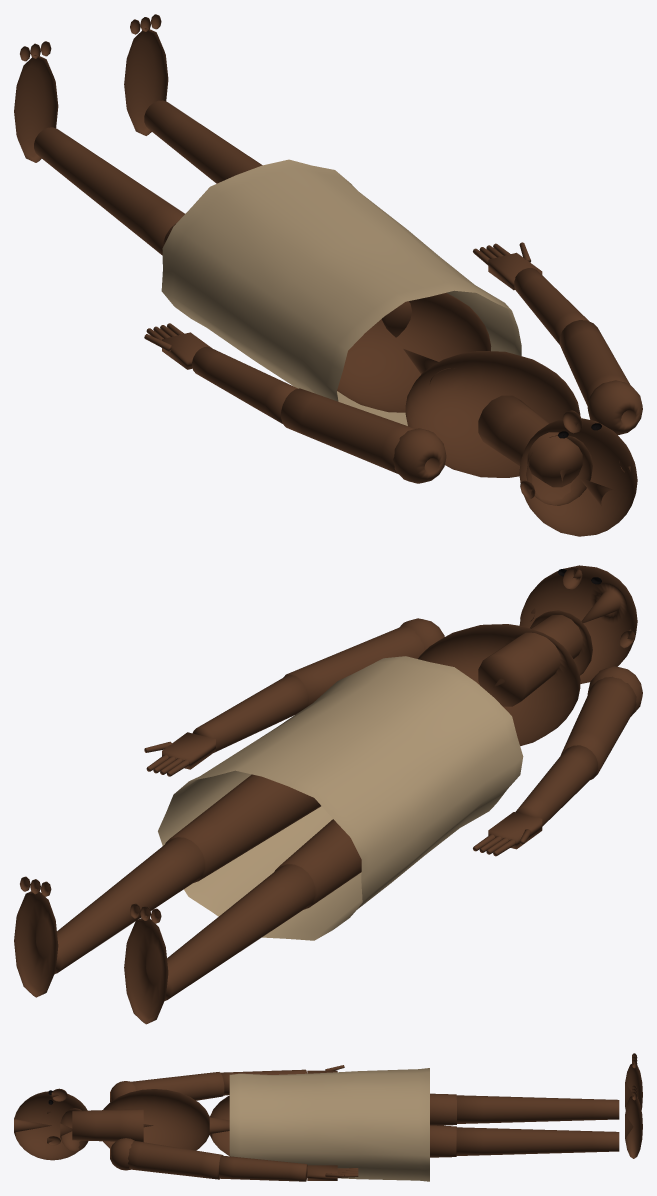
Rendered from NPC_CIVILIAN_ELDER_M.obj.
3 renders of one model, top to bottom at view 1: azimuth 30°, elevation 25°; view 2: azimuth 150°, elevation 25°; view 3: azimuth 270°, elevation 25°, orthographic. The views are drawn at different scales.
Visible parts, largest first — view 1: waist_wrapper, head, torso, shin_foot.L, pelvis, upperarm.L, shin_foot.R, upperarm.R, forearm_hand.L, forearm_hand.R; view 2: waist_wrapper, head, shin_foot.L, shin_foot.R, thigh.R, torso, forearm_hand.R, forearm_hand.L, upperarm.L, upperarm.R, thigh.L; view 3: waist_wrapper, head, shin_foot.R, shin_foot.L, torso, upperarm.R, forearm_hand.R, upperarm.L, pelvis, thigh.R, thigh.L, forearm_hand.L.
Part boxes in pixels (x1,y1,x2,y2): waist_wrapper: (161,159,521,425); head: (478,395,637,536); torso: (405,351,580,477); shin_foot.L: (14,41,184,255); pelvis: (337,293,491,412); upperarm.L: (281,388,446,483); shin_foot.R: (124,14,262,183); upperarm.R: (559,320,642,434); forearm_hand.L: (144,323,297,423); forearm_hand.R: (473,242,589,344); waist_wrapper: (158,656,523,940); head: (478,565,637,706); shin_foot.L: (124,864,315,1024); shin_foot.R: (14,837,204,997); thigh.R: (165,774,320,882); torso: (418,624,580,745); forearm_hand.R: (144,675,307,776); forearm_hand.L: (473,745,597,856); upperarm.L: (560,666,642,779); upperarm.R: (283,618,444,706); thigh.L: (274,819,361,909); waist_wrapper: (229,1068,429,1181); head: (14,1091,143,1160); shin_foot.R: (456,1085,642,1158); shin_foot.L: (456,1053,642,1123); torso: (103,1089,209,1150); upperarm.R: (110,1138,222,1179); forearm_hand.R: (219,1155,358,1181); upperarm.L: (110,1072,224,1102); pelvis: (209,1095,229,1155); thigh.R: (430,1125,456,1157); thigh.L: (430,1093,456,1125); forearm_hand.L: (221,1065,344,1095).
Bounding box in the file's own units: 0.7326 × 0.3139 × 1.76.
